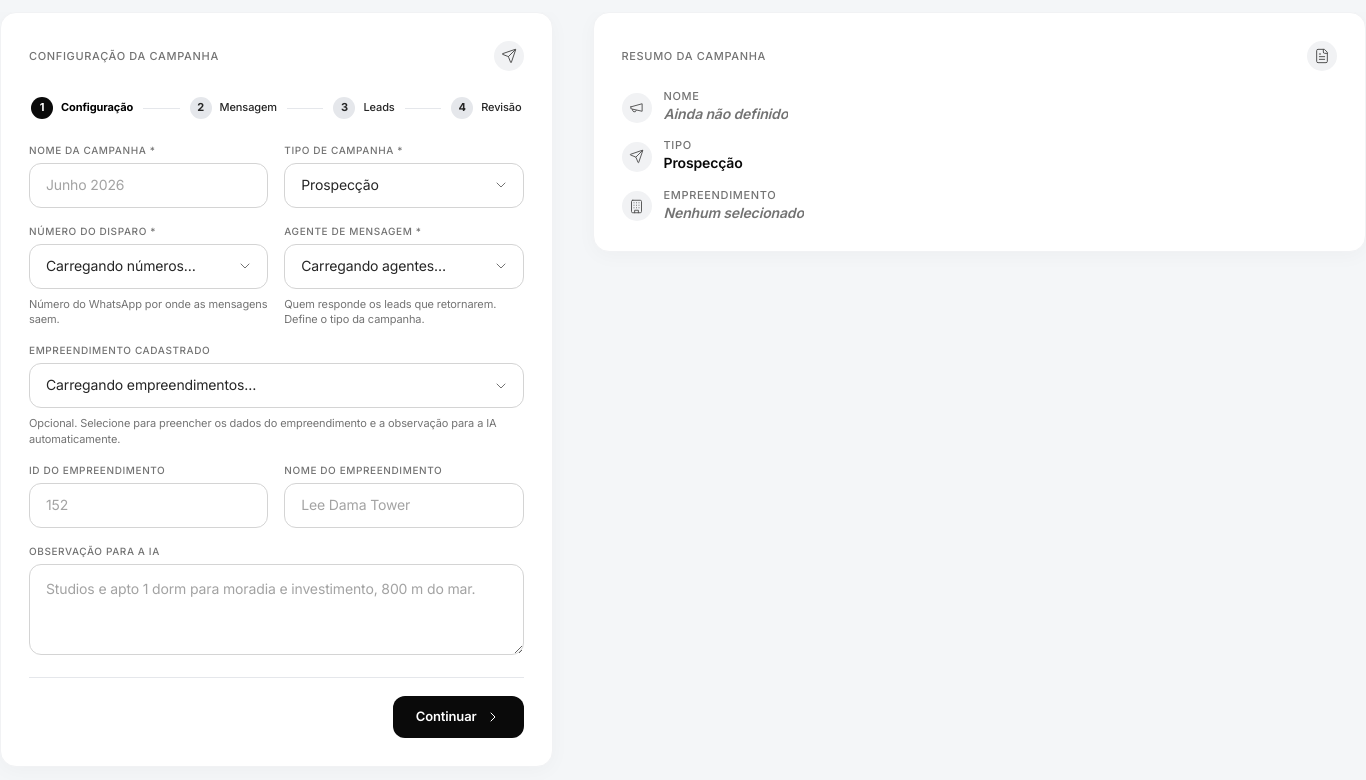
Test case: DispatchForm › deixa avançar com nome novo
Type "Campanha inédita" into the field labelled "Nome da campanha *" at {"x": 149, "y": 185}, box [29, 163, 268, 208]
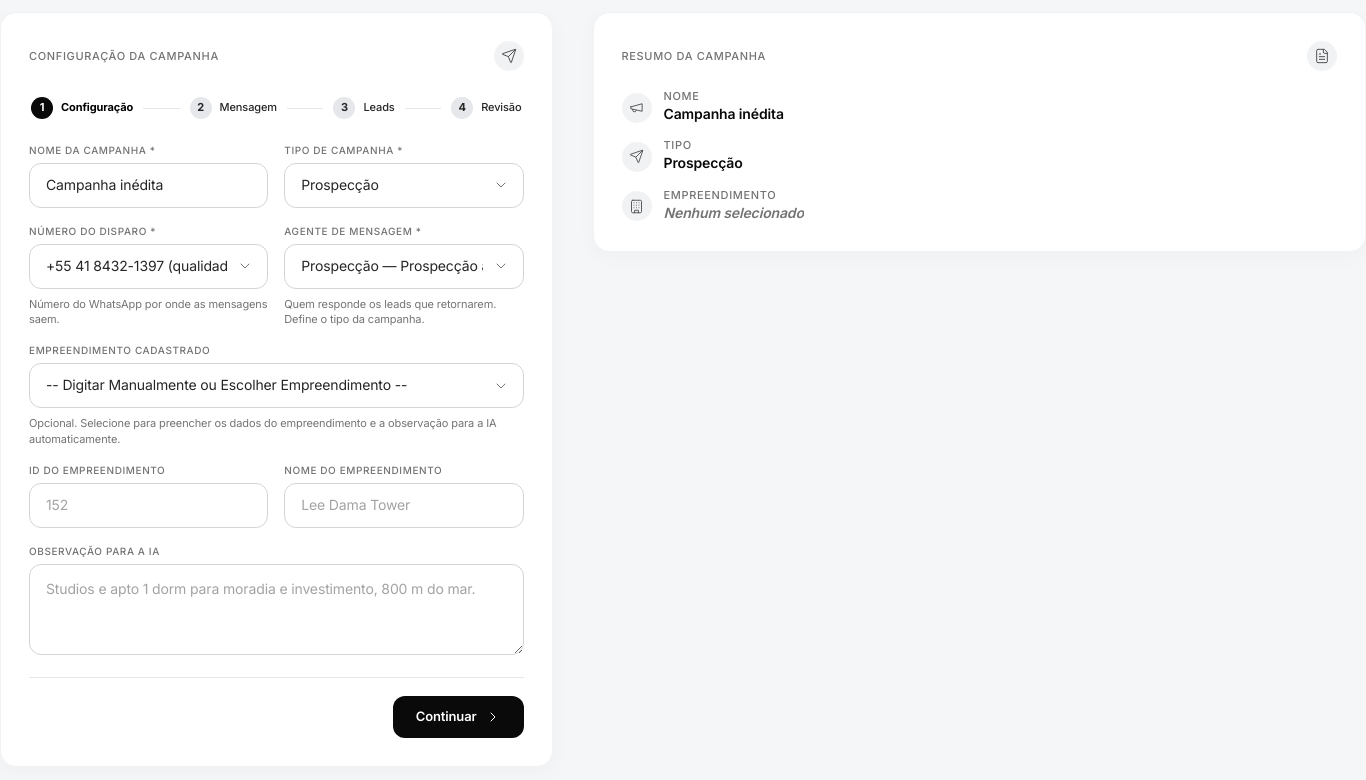
expect the dropdown labelled "Número do disparo *" shows "+55 41 8432-1397 (qualidade GREEN)": met, box [29, 244, 268, 289]
Click the button "Continuar" at {"x": 458, "y": 717}, box [393, 696, 524, 738]
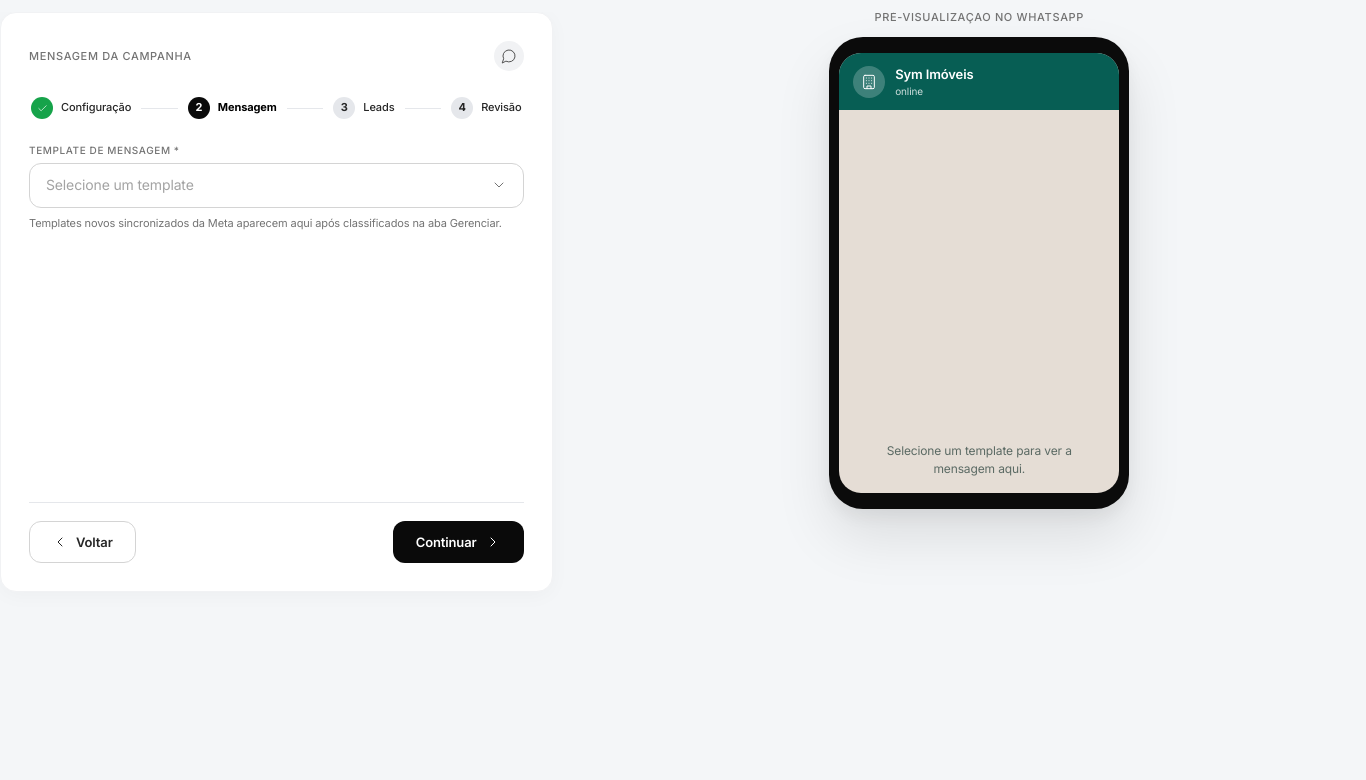
expect the button "Selecione um template" is shown: met, box [29, 163, 524, 208]
